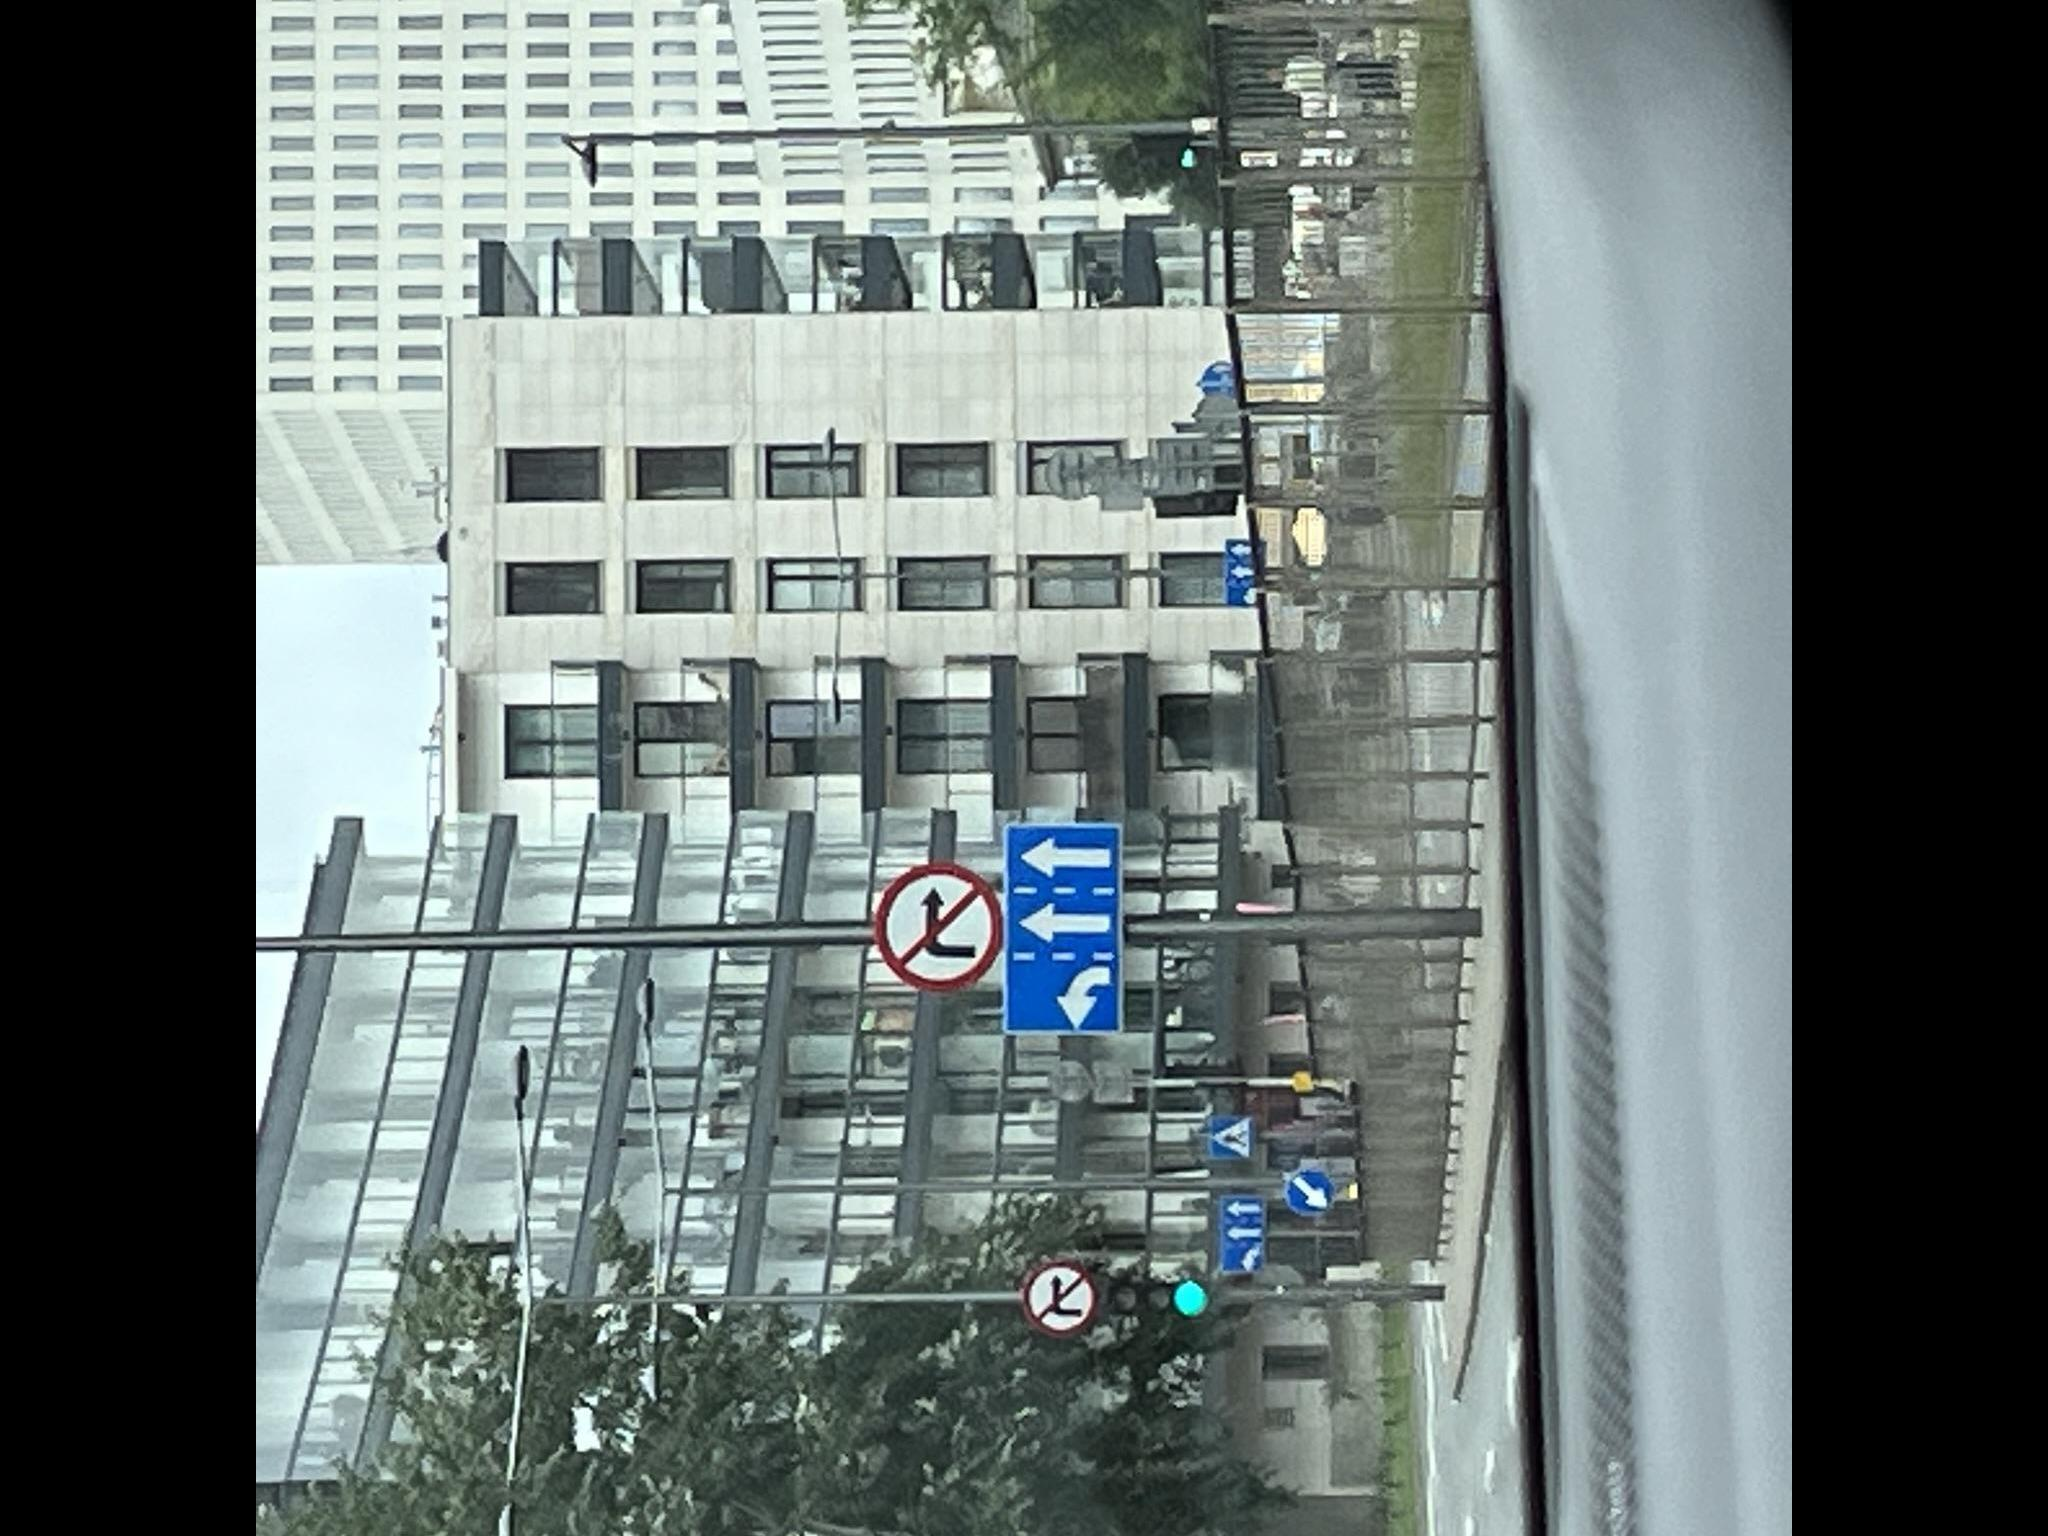information: (1206, 1113, 1256, 1162)
mandatory: (1285, 1170, 1334, 1215)
other: (1003, 821, 1124, 1036), (1219, 1192, 1269, 1275), (1226, 539, 1266, 608)
prohibitory: (872, 862, 1005, 992), (1019, 1260, 1101, 1334)
